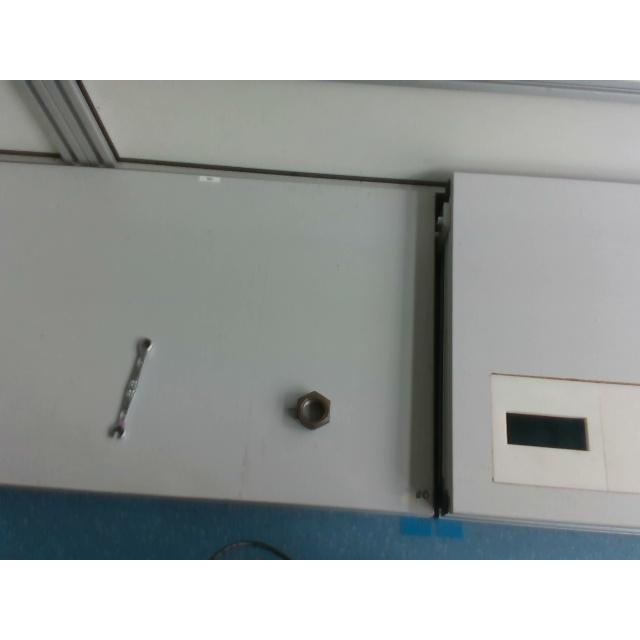M30: (295, 390, 331, 430)
Wrench: (108, 336, 154, 439)
